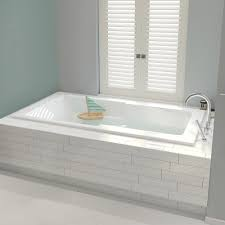bathub: (1, 85, 218, 216)
